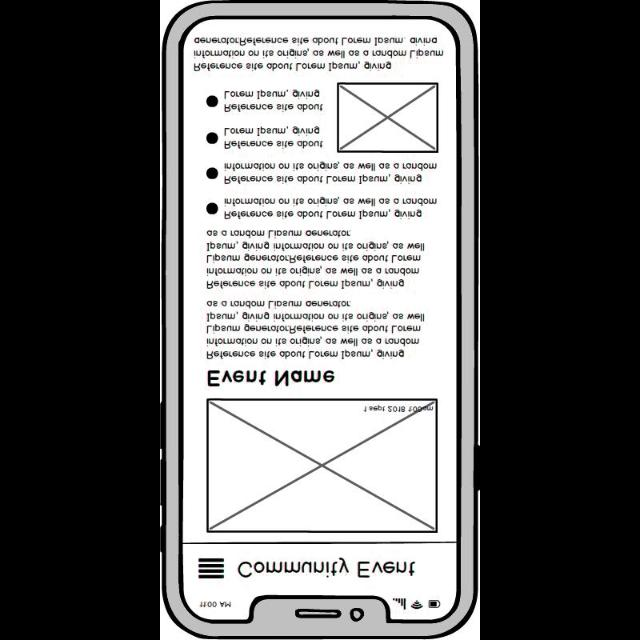icon: (198, 558, 226, 578), (207, 94, 219, 108), (207, 202, 219, 214), (207, 168, 219, 180), (207, 132, 219, 144)
image: (207, 398, 438, 532), (338, 83, 438, 153)
text: (205, 300, 425, 360), (206, 230, 426, 290), (192, 35, 444, 73), (225, 196, 440, 220), (225, 161, 438, 185), (238, 556, 416, 578), (224, 125, 324, 149), (224, 89, 324, 113), (208, 369, 336, 386), (362, 405, 433, 413)
toolbar: (184, 542, 456, 594)
